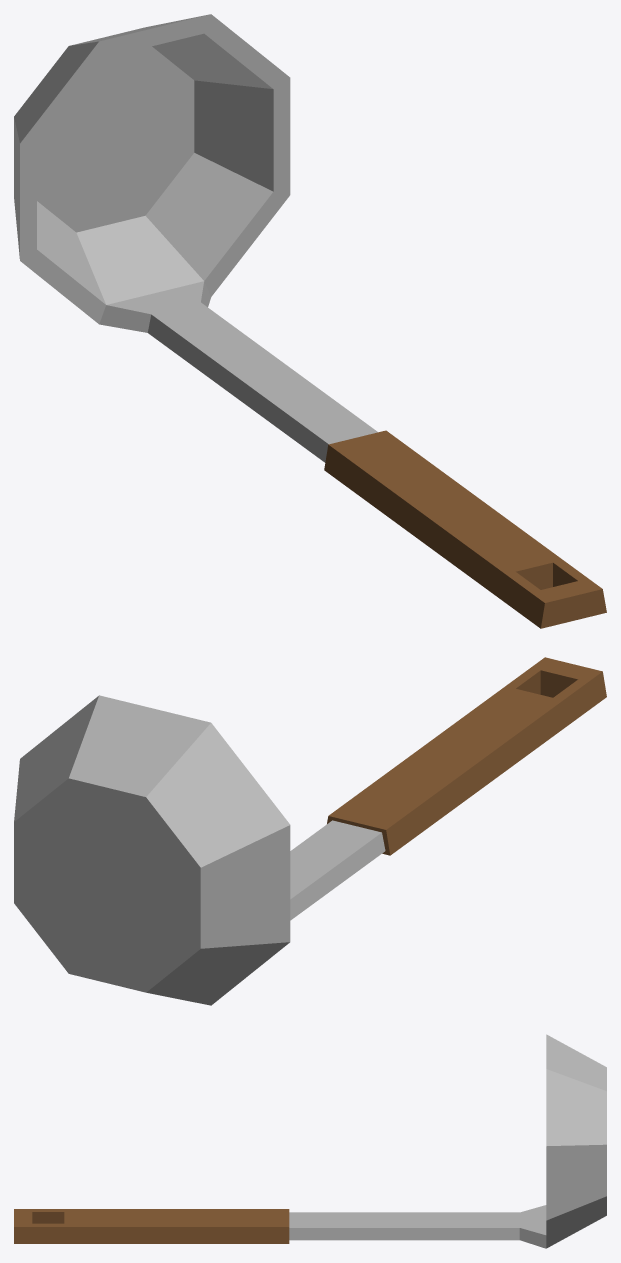
File: KitchenProps_03.fbx
3 views of the same model, one above another, from view 1: azimuth 30°, elevation 25°; view 2: azimuth 150°, elevation 25°; view 3: azimuth 270°, elevation 25° (orthographic). The views are drawn at different scales.
Parts seen in each view (by area): view 1: KitchenProps_03; view 2: KitchenProps_03; view 3: KitchenProps_03.
Boxes of the visible parts, x1,y1,x2,y2 form: KitchenProps_03: (14,14,606,628); KitchenProps_03: (14,657,606,1005); KitchenProps_03: (14,1034,606,1248).
Size of the model in its own units: 11.22 by 11.36 by 33.52.
